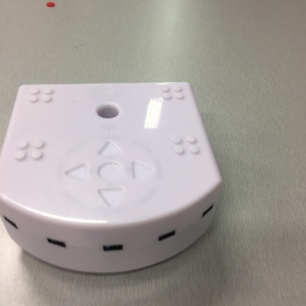thymio: (1, 73, 223, 282)
